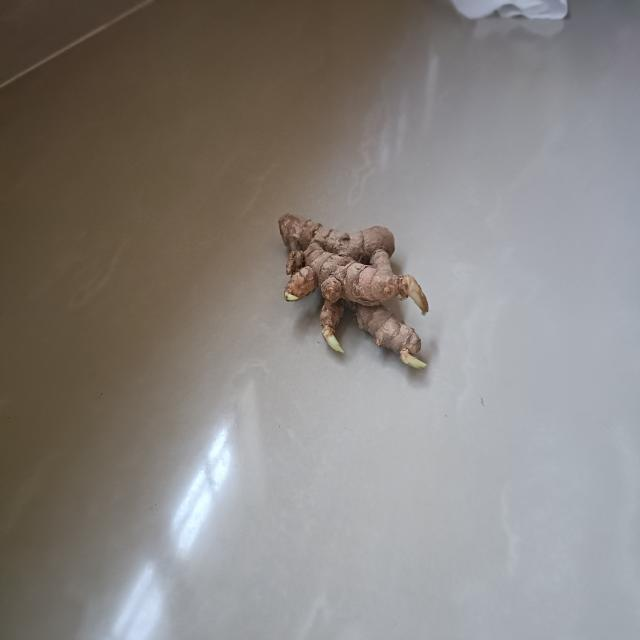ginger: (275, 203, 437, 380)
